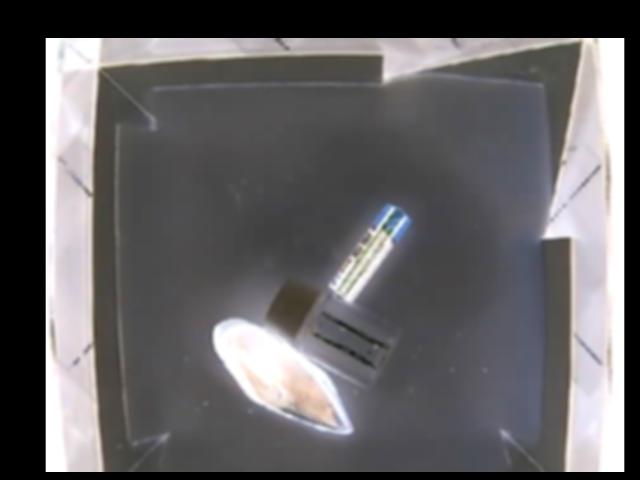Battery: (335, 202, 412, 300)
Bottle: (266, 280, 405, 386)
Shell: (212, 311, 355, 434)
